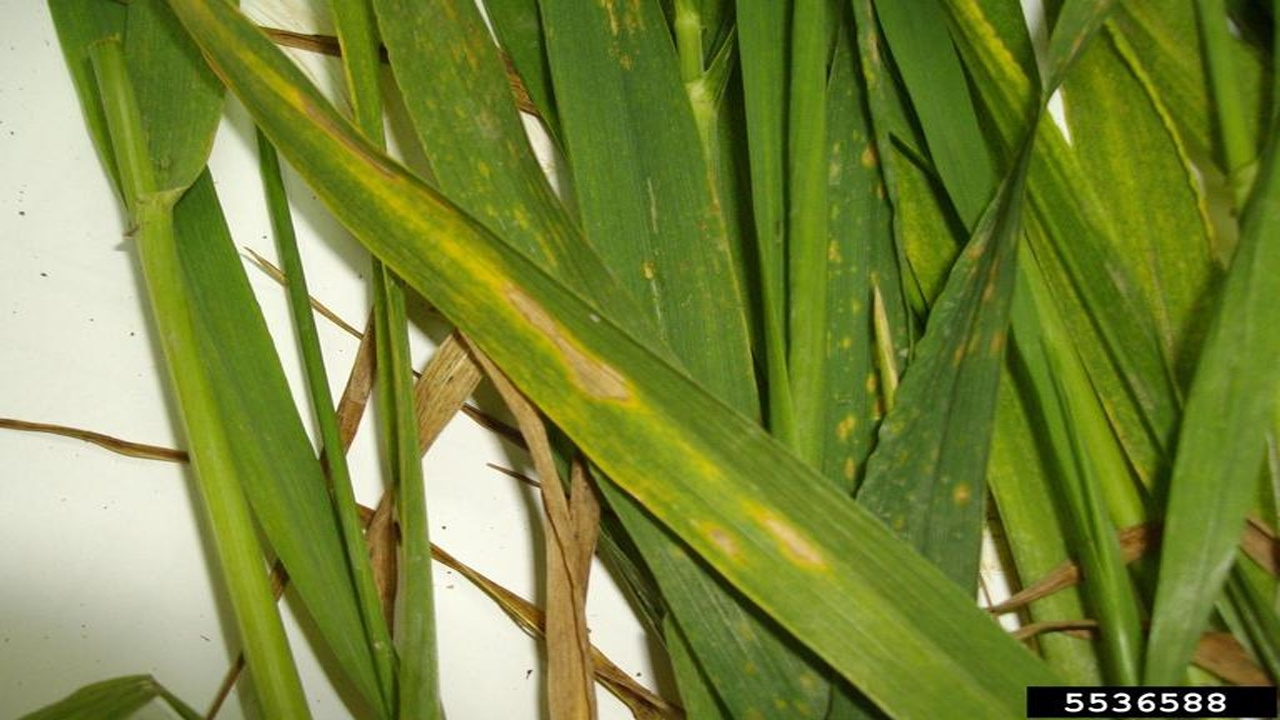tan_spot: (173, 3, 1009, 717), (878, 47, 1033, 532), (816, 16, 887, 484)
